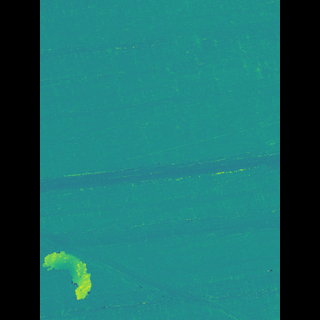Loch: (69, 224, 225, 320), (70, 241, 108, 302)
